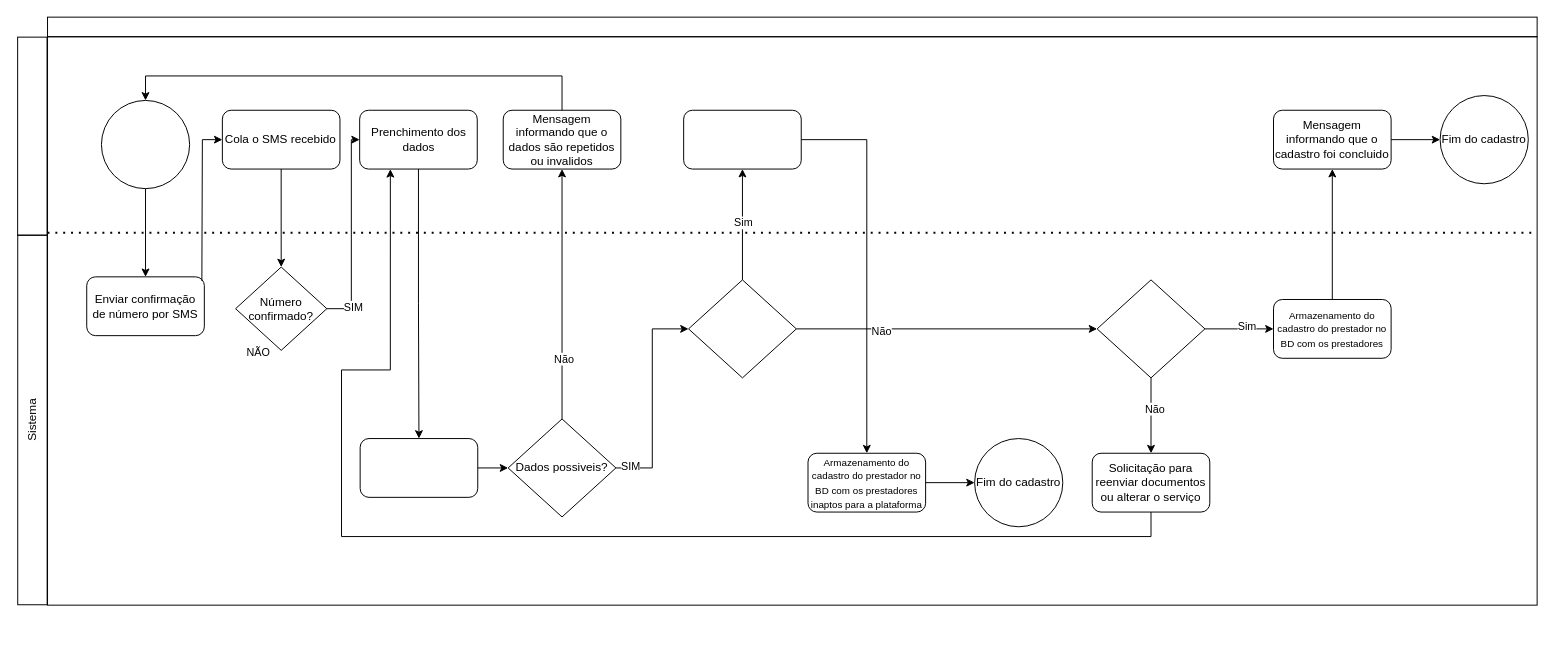
Some shapes in this 1554 by 651 pixel diagram are drawn without their labels. The shapes that lost their labels are listed below. From the top down, each one's centre as x and y in pixels, then its label:
At (x=792, y=26): "Cadastro dos prestadores de serviços".
At (x=32, y=135): "Prestador de serviços".
At (x=145, y=144): "Prenchimento do número de celular".
At (x=742, y=139): "Mensagem informando que o cadastro não poderá ser feito".
At (x=742, y=328): "Possui antecedentes criminais?".
At (x=1150, y=328): "Está apto para prestar o serviço selecionado?".
At (x=418, y=467): "Processamento dos dados".
